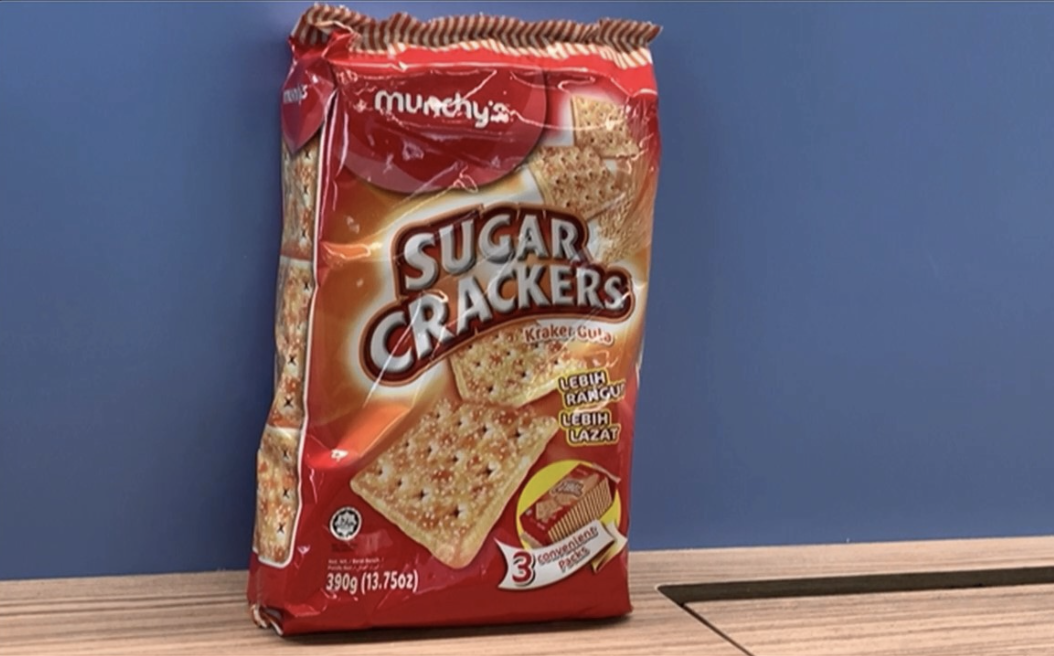crackers_450g: (306, 74, 628, 600)
